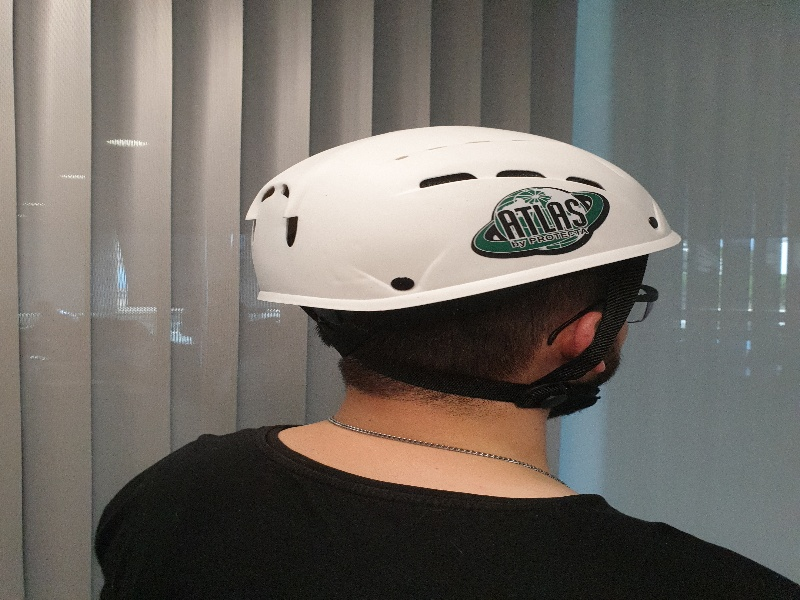Baret: (250, 124, 686, 303)
